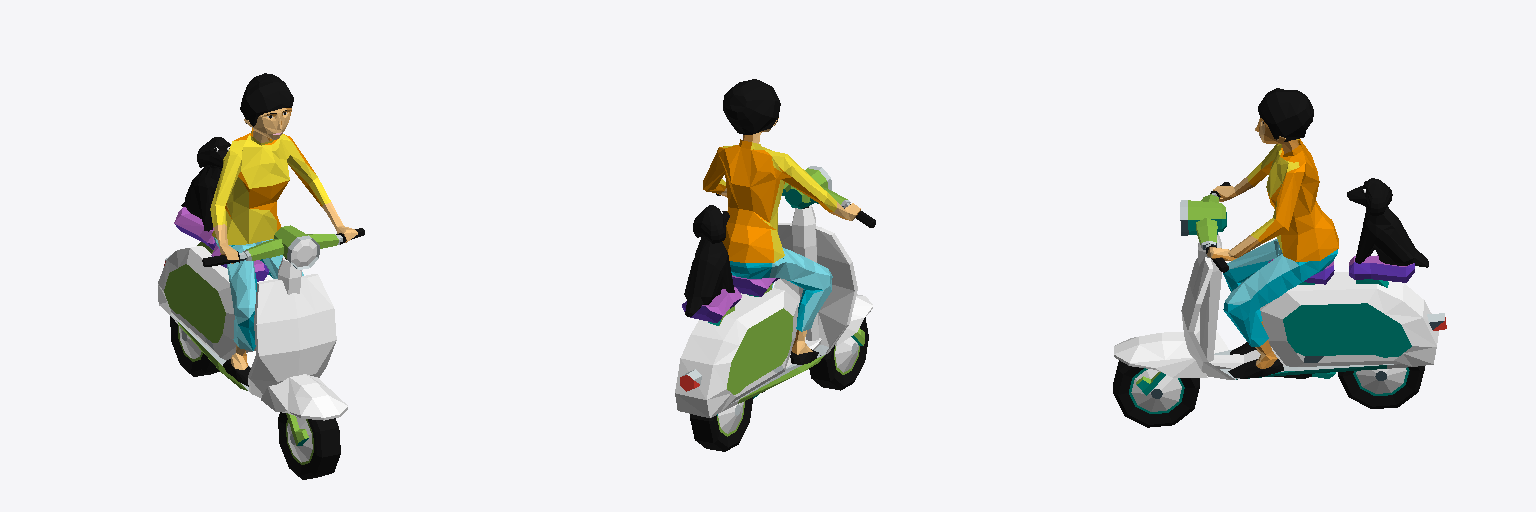
3 renders of one model, left to right at view 1: azimuth 30°, elevation 25°; view 2: azimuth 150°, elevation 25°; view 3: azimuth 270°, elevation 25°, orthographic.
Parts seen in each view (by area): view 1: group[number redacted], group[number redacted]; view 2: group[number redacted], group[number redacted]; view 3: group[number redacted], group[number redacted].
Boxes of the visible parts, x1,y1,x2,y2 form: group[number redacted]: [158, 73, 364, 479]; group[number redacted]: [181, 137, 230, 231]; group[number redacted]: [675, 79, 875, 451]; group[number redacted]: [684, 205, 734, 316]; group[number redacted]: [1113, 88, 1446, 427]; group[number redacted]: [1347, 178, 1428, 267].
Size of the model in its own units: 1.1 by 2.26 by 1.99.